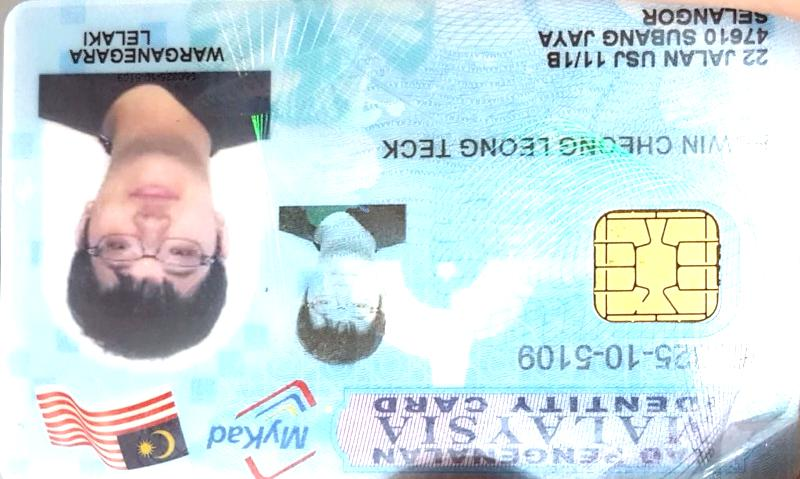hologram: (449, 163, 588, 295)
hologramB: (275, 1, 382, 203)
